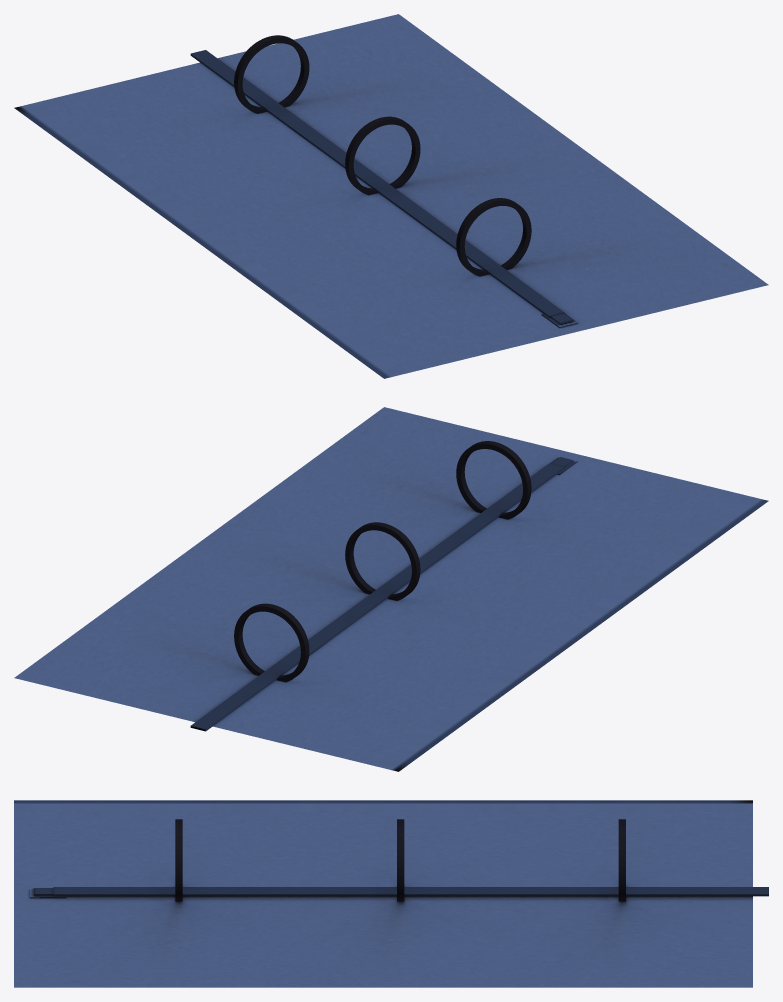
File: room_0.glb
The picture shows the model from 3 angles, top to bottom: view 1: azimuth 30°, elevation 25°; view 2: azimuth 150°, elevation 25°; view 3: azimuth 270°, elevation 25°; orthographic projection.
Parts seen in each view (by area): view 1: ground, Plane.003, Circle; view 2: ground, Plane.003, Circle; view 3: ground, Plane.003, Circle.
Part boxes in pixels (box(x1,y1,x2,y2)): ground: box(14, 14, 768, 378); Plane.003: box(190, 50, 564, 317); Circle: box(234, 35, 531, 276); ground: box(14, 407, 768, 771); Plane.003: box(190, 463, 564, 731); Circle: box(234, 441, 531, 682); ground: box(14, 800, 752, 987); Plane.003: box(53, 887, 768, 896); Circle: box(175, 819, 625, 901).
Bounding box in the file's own units: 30 × 5.59 × 51.09.
Materials: 3 (3 with a texture image).
